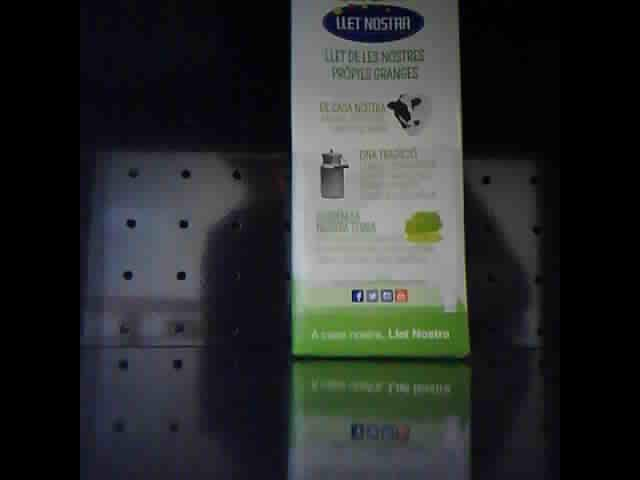leche: (290, 2, 468, 358)
